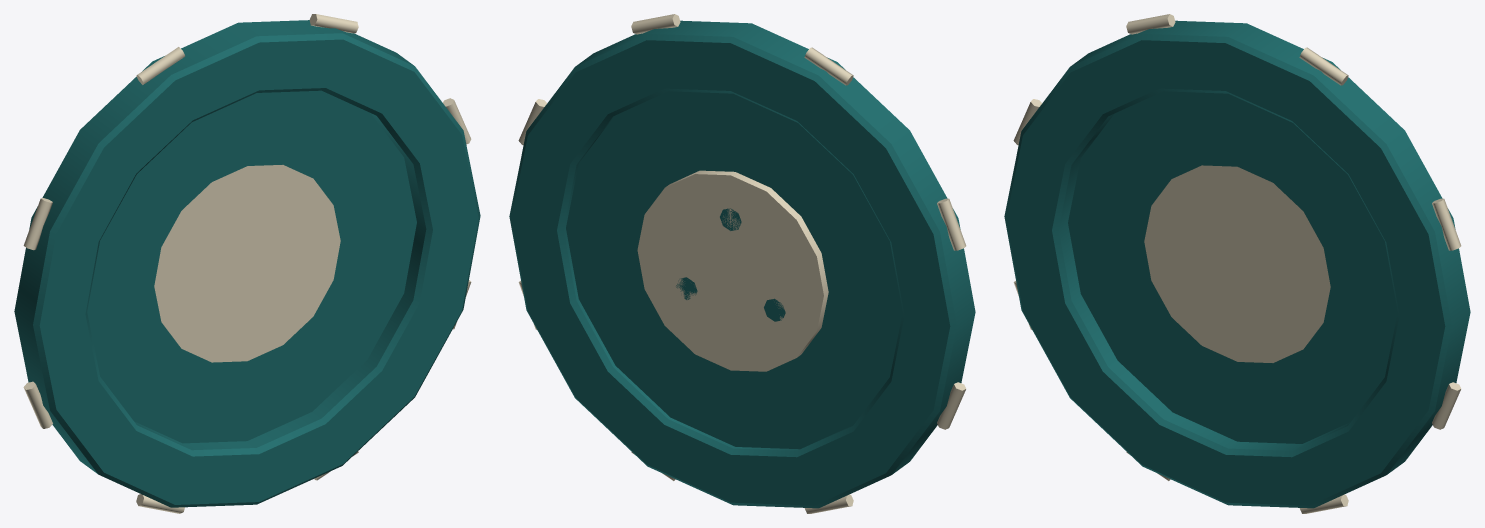
Rendered from k12_lashing_ring.obj.
3 views of the same model, side by side, from view 1: azimuth 30°, elevation 25°; view 2: azimuth 150°, elevation 25°; view 3: azimuth 330°, elevation 25° (orthographic).
Parts seen in each view (by area): view 1: k12_lashing_ring; view 2: k12_lashing_ring; view 3: k12_lashing_ring.
Part boxes in pixels (x1=…): k12_lashing_ring: x1=14, y1=14, x2=480, y2=513; k12_lashing_ring: x1=509, y1=14, x2=975, y2=513; k12_lashing_ring: x1=1004, y1=14, x2=1470, y2=513.
Bounding box in the file's own units: 2.1 × 2.1 × 0.1905.
